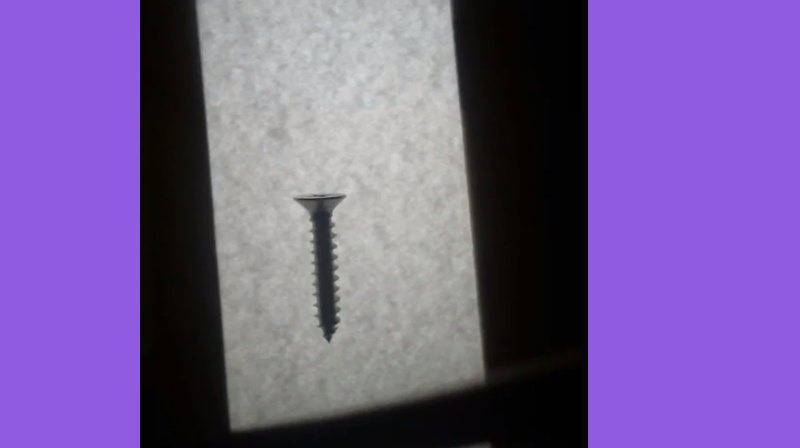S001: (291, 189, 344, 346)
